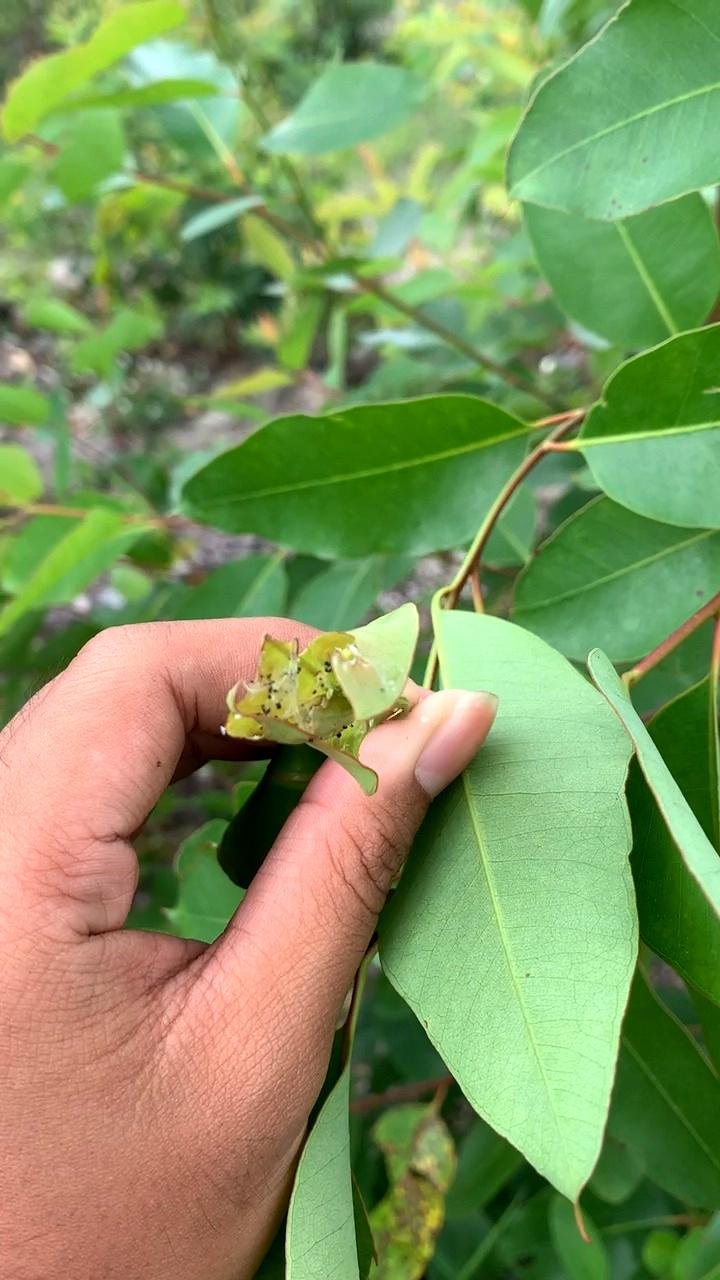Leaf Roller - Leaf: (218, 615, 429, 759)
